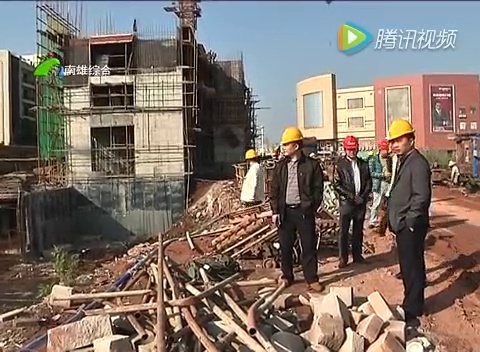red: (342, 134, 359, 160), (376, 139, 390, 160)
yellow: (387, 119, 415, 157), (280, 125, 302, 157), (243, 147, 258, 164)
